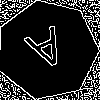A: (22, 25, 74, 81)
